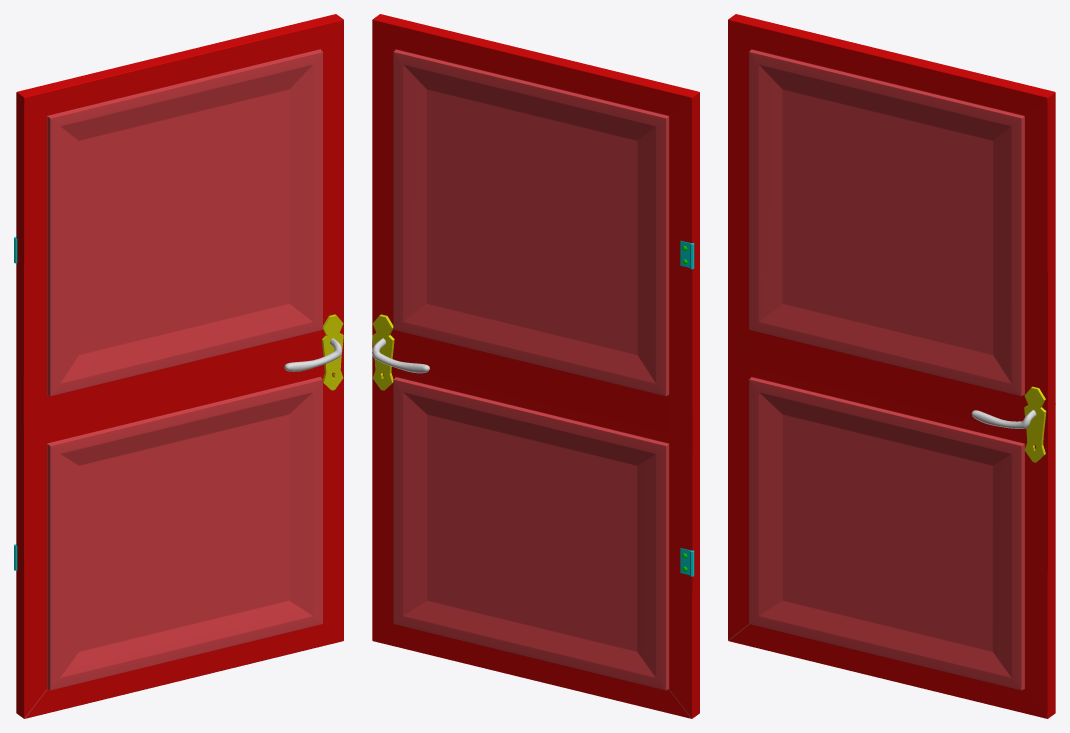
Rendered from Door_high.fbx.
3 renders of one model, left to right at view 1: azimuth 30°, elevation 25°; view 2: azimuth 150°, elevation 25°; view 3: azimuth 330°, elevation 25°, orthographic.
Parts seen in each view (by area): view 1: Door_high, Door_Handle_high; view 2: Door_high, Door_Handle_high; view 3: Door_high, Door_Handle_high.
Part boxes in pixels (left/top/right/bottom): Door_high: left=14, top=14, right=343, bottom=718; Door_Handle_high: left=284, top=338, right=342, bottom=371; Door_high: left=372, top=14, right=699, bottom=718; Door_Handle_high: left=372, top=338, right=429, bottom=373; Door_high: left=728, top=14, right=1055, bottom=718; Door_Handle_high: left=971, top=403, right=1055, bottom=428.
Bounding box in the file's own units: 10.76 × 19.85 × 1.76.
